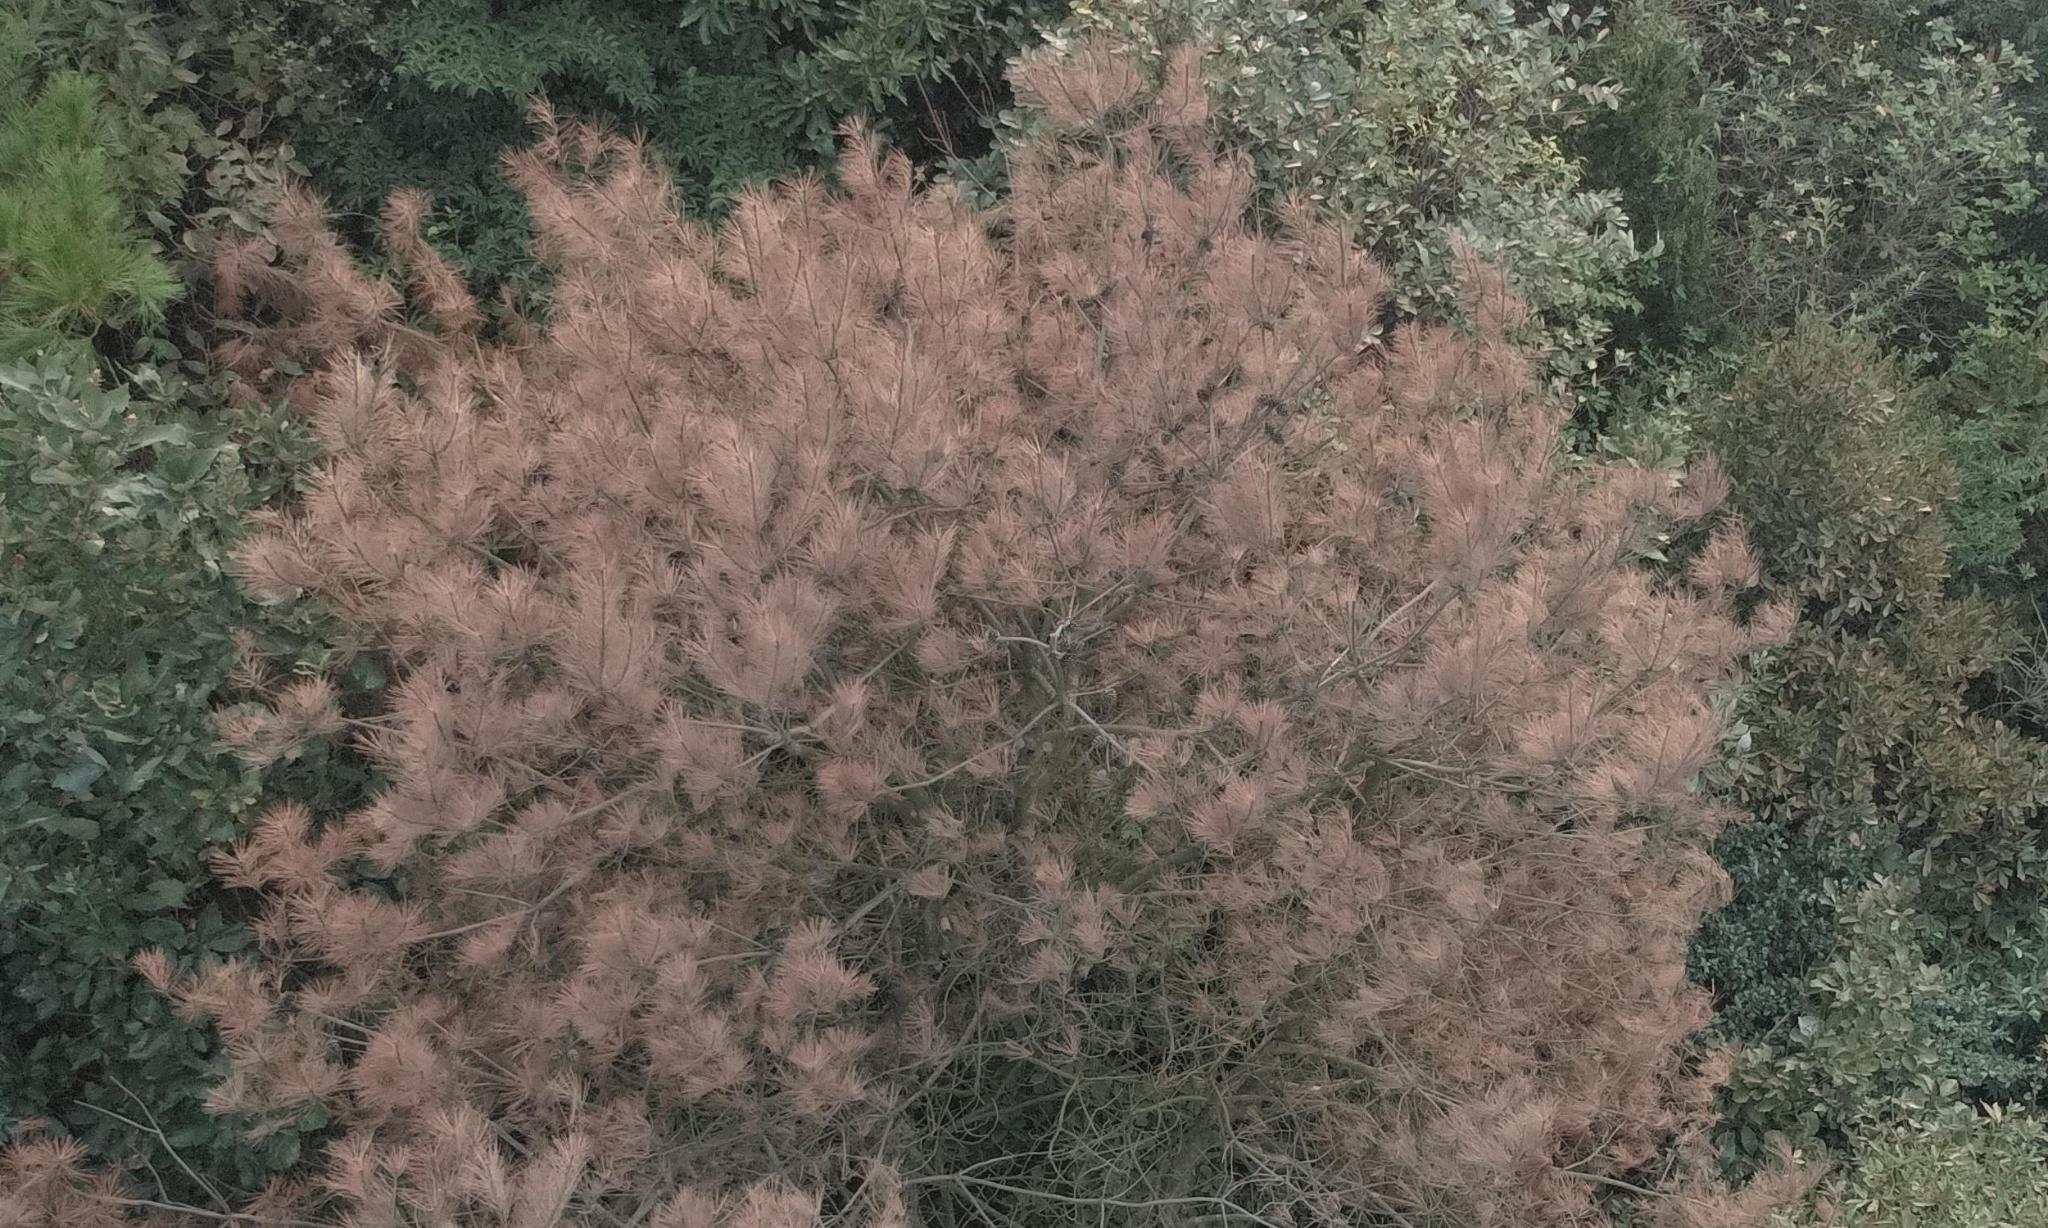heavy: (175, 63, 1766, 1212)
